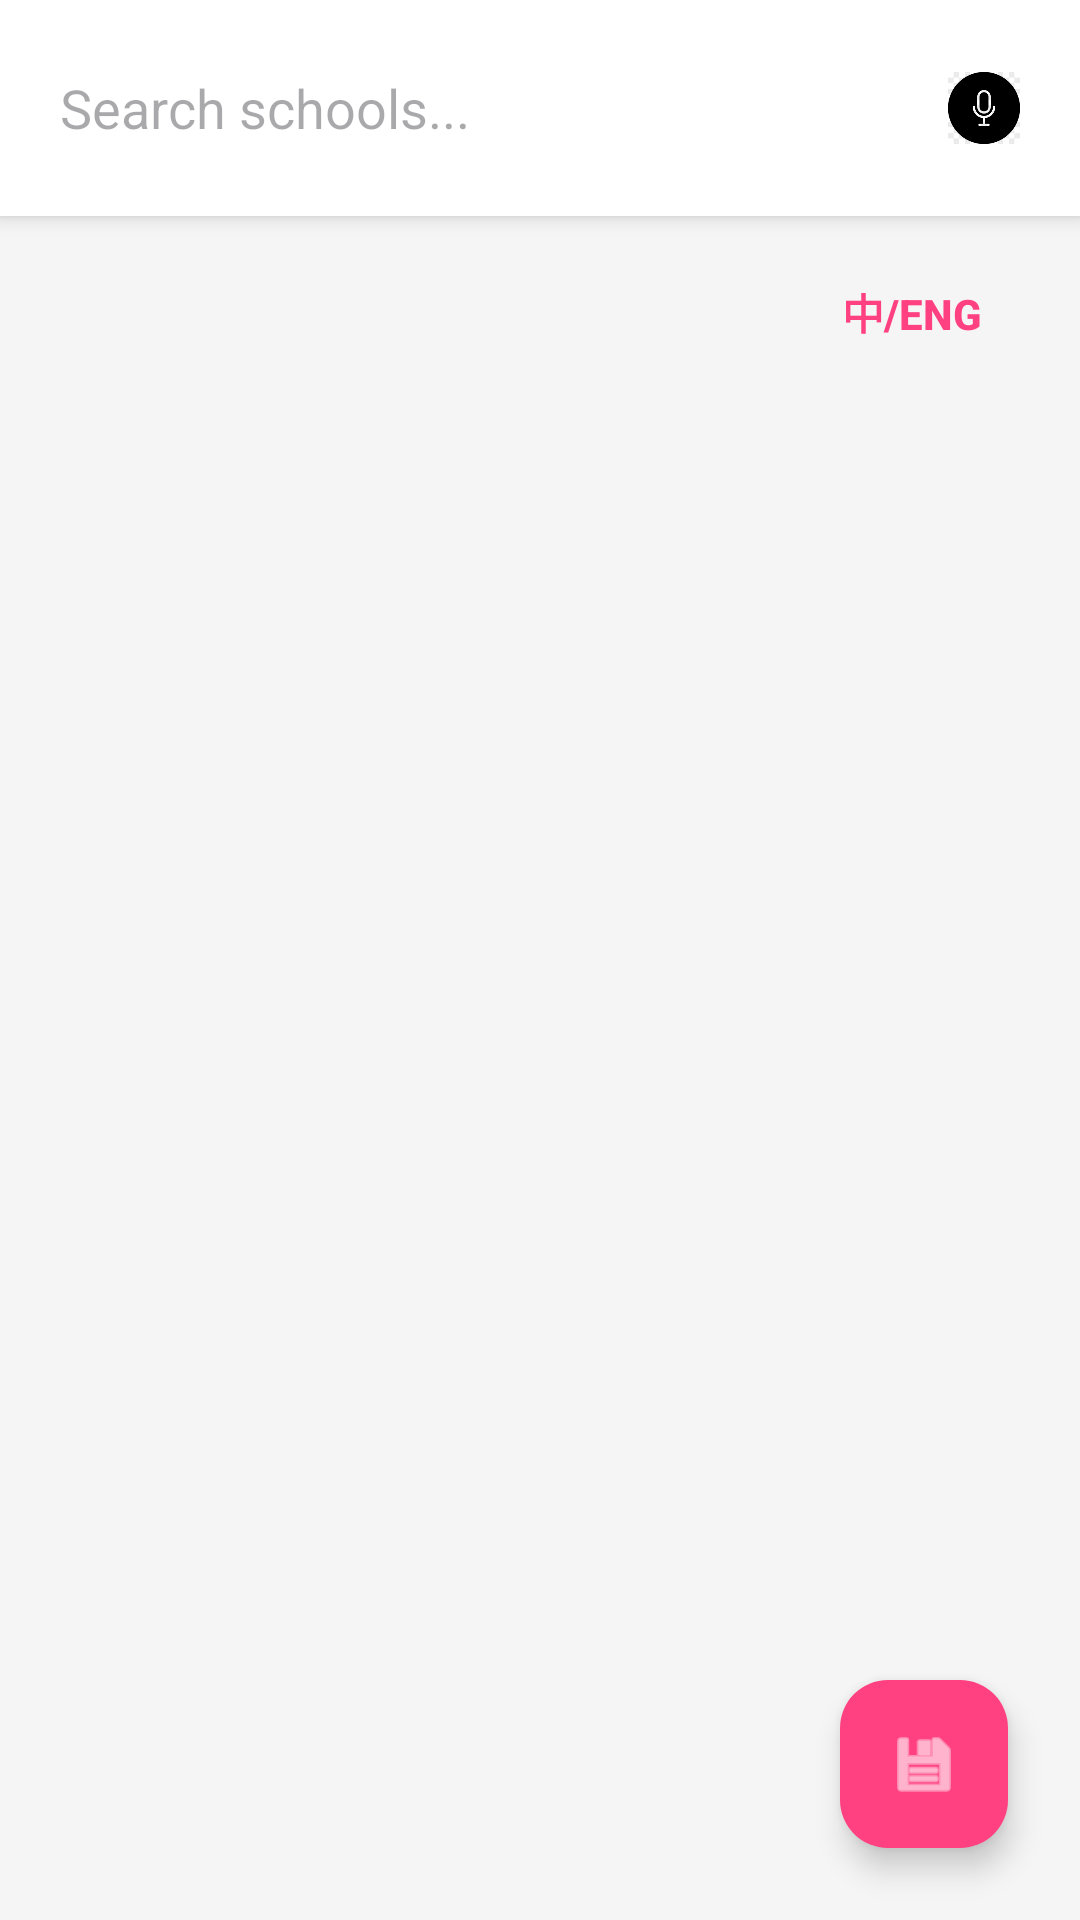

Screen size 1080w x 1920h. Icon name, then its center in pixels as [x,y]:
save: [924,1764]
Voice search: [984,108]
